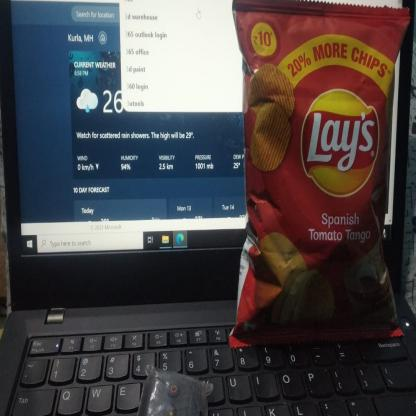tangy_tomato: (230, 0, 413, 344)
